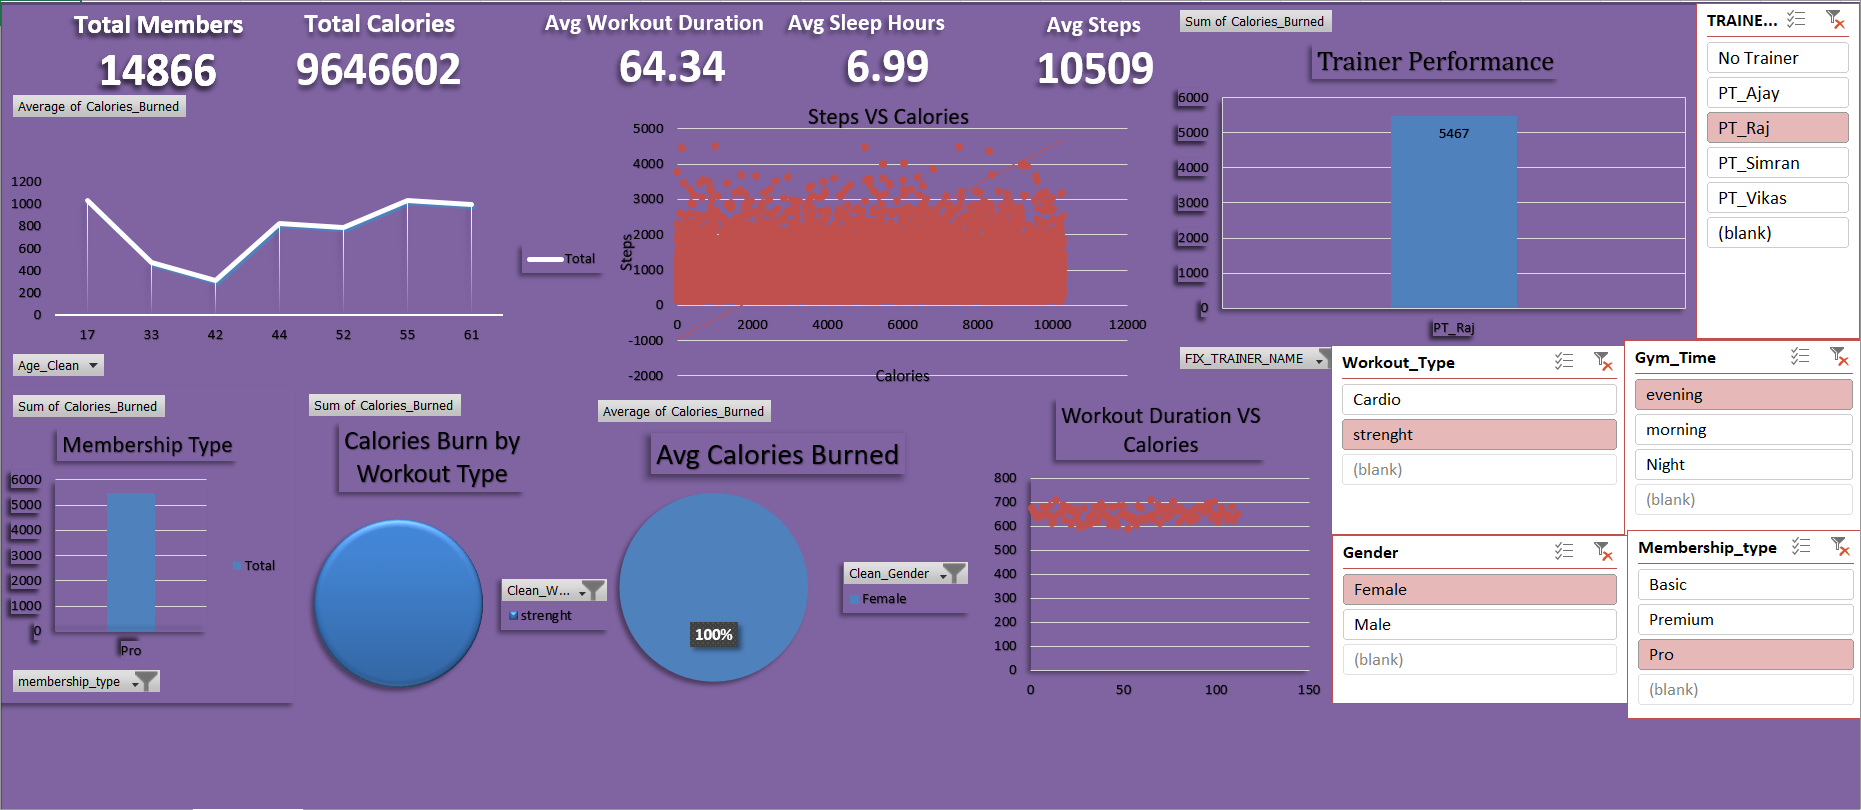

Layout of this report page (visuals, bound fields, positions):
{"tool":"powerbi","page":{"name":"Page 1","canvas":[1280,720],"ordinal":0},"visuals":[{"type":"pieChart","fields":{"Category":["Fitness_Datal.Gender"],"Y":["Sum(Fitness_Datal.Calories_Burned)"]},"box":[237.8,454.4,307.8,84.4],"z":0},{"type":"barChart","fields":{"Y":["Sum(Fitness_Datal.Calories_Burned)"],"Category":["Fitness_Datal.Workout_Type"]},"box":[1022.5,550,224.2,138.3],"z":1000},{"type":"columnChart","fields":{"Category":["Fitness_Datal.membership_type"],"Y":["Sum(Fitness_Datal.Calories_Burned)"]},"box":[598.3,260.8,290,173.3],"z":2000},{"type":"barChart","fields":{"Y":["Sum(Fitness_Datal.Calories_Burned)"],"Category":["Fitness_Datal.Trainer_Name"]},"box":[585.6,454.4,222.2,68.9],"z":3000},{"type":"hundredPercentStackedBarChart","fields":{"Category":["Fitness_Datal.Calories_Burned"],"Y":["Sum(Fitness_Datal.Steps)"]},"box":[910,259.2,325,180],"z":4000},{"type":"hundredPercentStackedBarChart","fields":{"Y":["Sum(Fitness_Datal.Workout_Duration_Min)"],"Category":["Fitness_Datal.Calories_Burned"]},"box":[237.5,260.8,330.8,173.3],"z":5000},{"type":"slicer","fields":{"Values":["Fitness_Datal.Gender"]},"box":[45.8,190.8,128.3,36.7],"z":6000},{"type":"slicer","fields":{"Values":["Fitness_Datal.Gym_Time"]},"box":[37.5,446.7,137.5,50],"z":7000},{"type":"slicer","fields":{"Values":["Fitness_Datal.Trainer_Name"]},"box":[37.5,260.8,141.7,39.2],"z":8000},{"type":"slicer","fields":{"Values":["Fitness_Datal.Workout_Type"]},"box":[40,389.2,136.7,45],"z":9000},{"type":"slicer","fields":{"Values":["Fitness_Datal.membership_type"]},"box":[33.8,320,148.8,40],"z":10000},{"type":"cardVisual","title":"         Total Calories","fields":{"Data":["Fitness_Datal.Total_Calories"]},"box":[238,151,181,93],"z":11000},{"type":"cardVisual","title":"Total Steps","fields":{"Data":["Fitness_Datal.Total_Steps"]},"box":[471,151,150,108],"z":12000},{"type":"cardVisual","title":"Avg Calories","fields":{"Data":["Fitness_Datal.AC"]},"box":[685.6,151.1,156.7,106.7],"z":13000},{"type":"cardVisual","title":"Avg Steps","fields":{"Data":["Fitness_Datal.As"]},"box":[886.7,153.3,150,102.2],"z":14000},{"type":"cardVisual","title":"Total User","fields":{"Data":["Fitness_Datal.Tu"]},"box":[1083.3,153.3,150,107.8],"z":15000},{"type":"pieChart","fields":{"Category":["Fitness_Datal.Workout_Type"],"Y":["Sum(Fitness_Datal.Calories_Burned)"]},"box":[830,454.4,338.9,84.4],"z":16000},{"type":"columnChart","fields":{"Y":["Sum(Fitness_Datal.Steps)"],"Category":["Fitness_Datal.Age_Group"]},"box":[830,556.7,177.8,131.1],"z":17000},{"type":"lineStackedColumnComboChart","fields":{"Y":["Sum(Fitness_Datal.Calories_Burned)"],"Category":["Fitness_Datal.Date"]},"box":[227.8,557.8,282.2,138.9],"z":18000},{"type":"hundredPercentStackedBarChart","fields":{"Category":["Fitness_Datal.Workout_Type"],"Y":["Sum(Fitness_Datal.Calories_Burned)"],"Series":["Fitness_Datal.Gender"]},"box":[517.8,550,290,137.8],"z":19000}]}

Visuals, with their boxes on the page's 1280x720 design canvas (x1, y1, x2, y2). These are canvas units, not pixel positions in the 1861x810 screenshot, which may show the page scaled, cropped or inside an application window:
pieChart - Fitness_Datal.Gender x Sum(Fitness_Datal.Calories_Burned): detection(238, 454, 546, 539)
barChart - Sum(Fitness_Datal.Calories_Burned) x Fitness_Datal.Workout_Type: detection(1022, 550, 1247, 688)
columnChart - Fitness_Datal.membership_type x Sum(Fitness_Datal.Calories_Burned): detection(598, 261, 888, 434)
barChart - Sum(Fitness_Datal.Calories_Burned) x Fitness_Datal.Trainer_Name: detection(586, 454, 808, 523)
hundredPercentStackedBarChart - Fitness_Datal.Calories_Burned x Sum(Fitness_Datal.Steps): detection(910, 259, 1235, 439)
hundredPercentStackedBarChart - Sum(Fitness_Datal.Workout_Duration_Min) x Fitness_Datal.Calories_Burned: detection(238, 261, 568, 434)
slicer - Fitness_Datal.Gender: detection(46, 191, 174, 228)
slicer - Fitness_Datal.Gym_Time: detection(38, 447, 175, 497)
slicer - Fitness_Datal.Trainer_Name: detection(38, 261, 179, 300)
slicer - Fitness_Datal.Workout_Type: detection(40, 389, 177, 434)
slicer - Fitness_Datal.membership_type: detection(34, 320, 183, 360)
"         Total Calories" cardVisual: detection(238, 151, 419, 244)
"Total Steps" cardVisual: detection(471, 151, 621, 259)
"Avg Calories" cardVisual: detection(686, 151, 842, 258)
"Avg Steps" cardVisual: detection(887, 153, 1037, 256)
"Total User" cardVisual: detection(1083, 153, 1233, 261)
pieChart - Fitness_Datal.Workout_Type x Sum(Fitness_Datal.Calories_Burned): detection(830, 454, 1169, 539)
columnChart - Sum(Fitness_Datal.Steps) x Fitness_Datal.Age_Group: detection(830, 557, 1008, 688)
lineStackedColumnComboChart - Sum(Fitness_Datal.Calories_Burned) x Fitness_Datal.Date: detection(228, 558, 510, 697)
hundredPercentStackedBarChart - Fitness_Datal.Workout_Type x Sum(Fitness_Datal.Calories_Burned): detection(518, 550, 808, 688)
